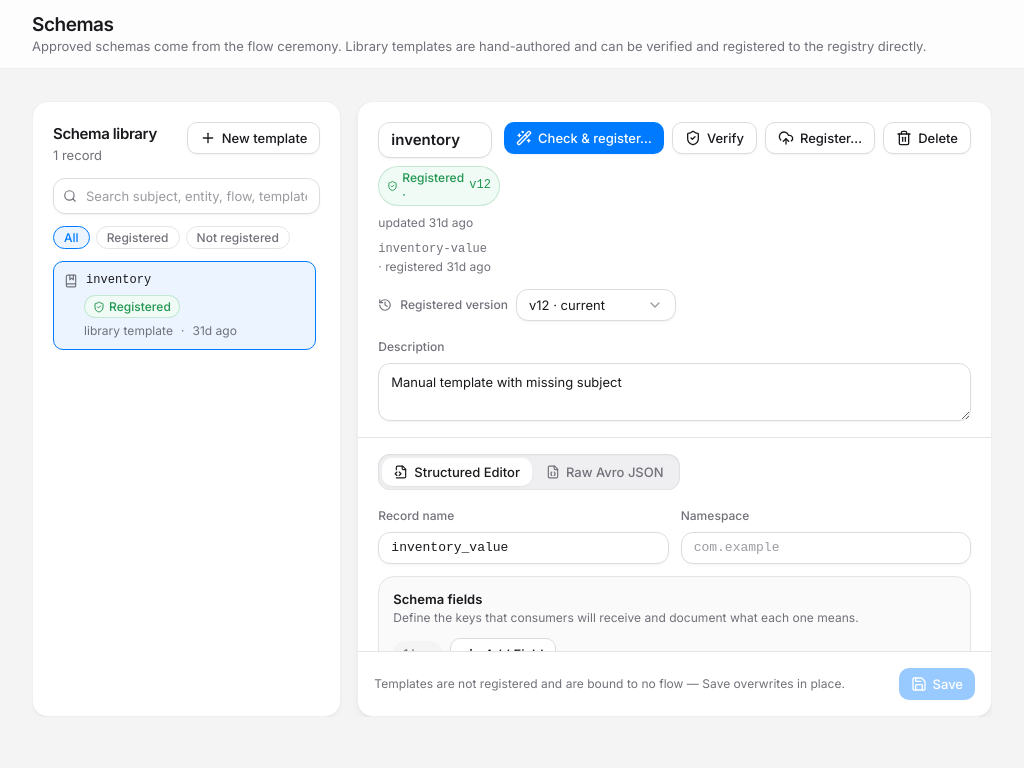
Test: Schemas › shows a dedicated key and Docs editor for each schema field
Click the button "inventory Registered library template · 31d ago".
click(119, 280)  # box [53, 261, 316, 350]
(page scrolled)
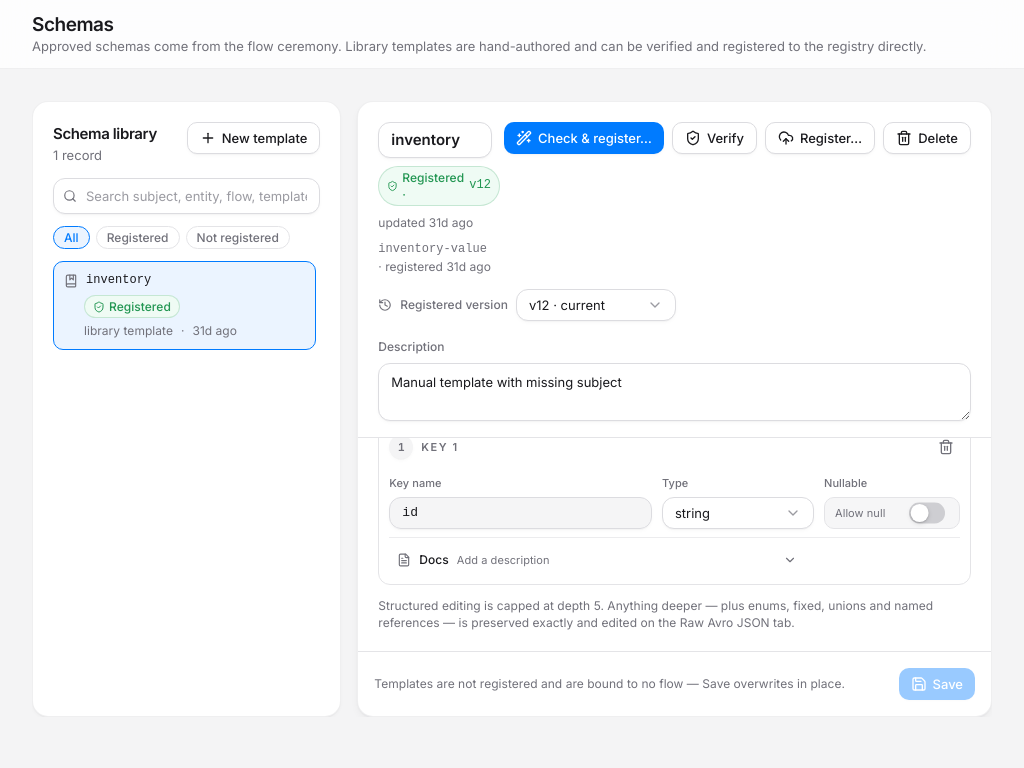
Check: the text "Key 1" is shown, box [421, 439, 459, 455]
Check: the text "Key name" is shown, box [389, 476, 442, 490]
Check: the text "Docs" is shown, box [419, 551, 449, 568]
Click the button "Docs Add a description".
click(503, 560)  # box [389, 546, 805, 574]
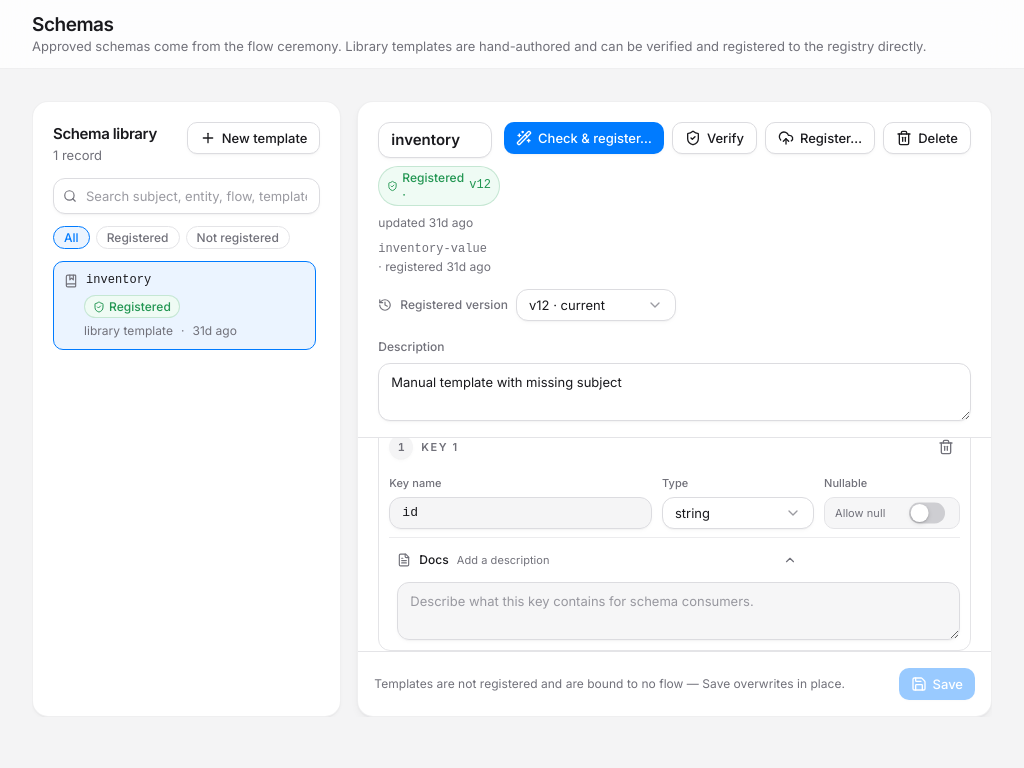
Check: the text box named "Field documentation" is shown, box [397, 582, 960, 640]
